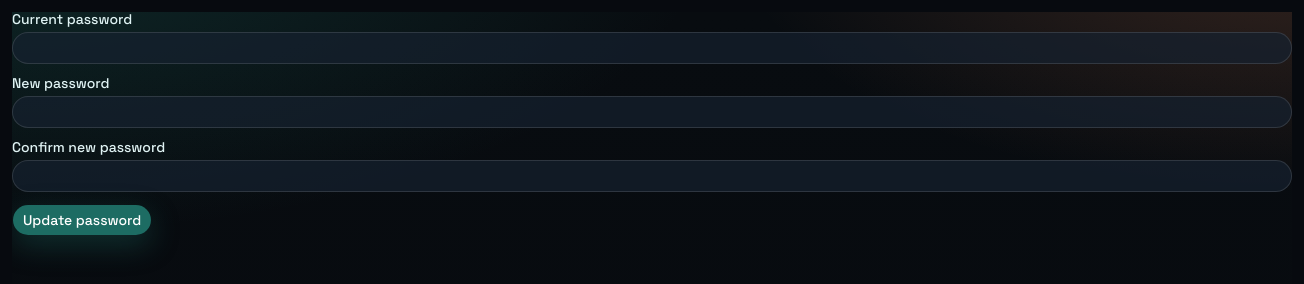
Test: GlotCap PasswordChangeSection › shows error when server request fails
In the password field labelled "Current password": (652, 48) [12,32,1292,64], type "old-pass"
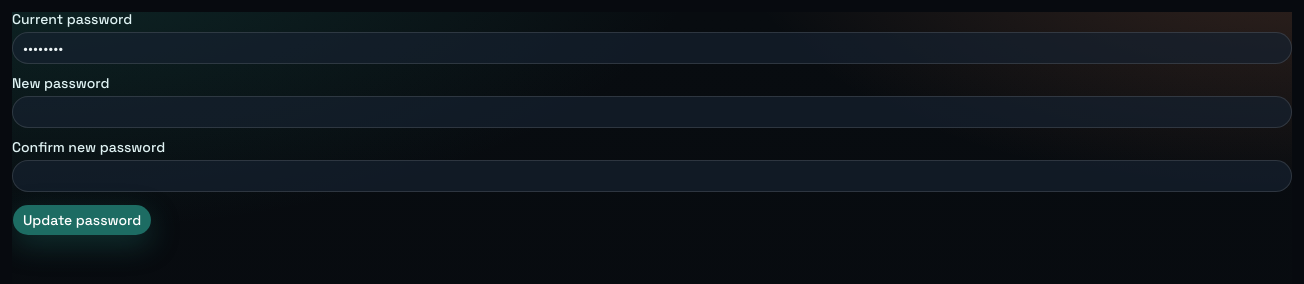
In the password field labelled "New password": (652, 112) [12,96,1292,128], type "new-pass-123"
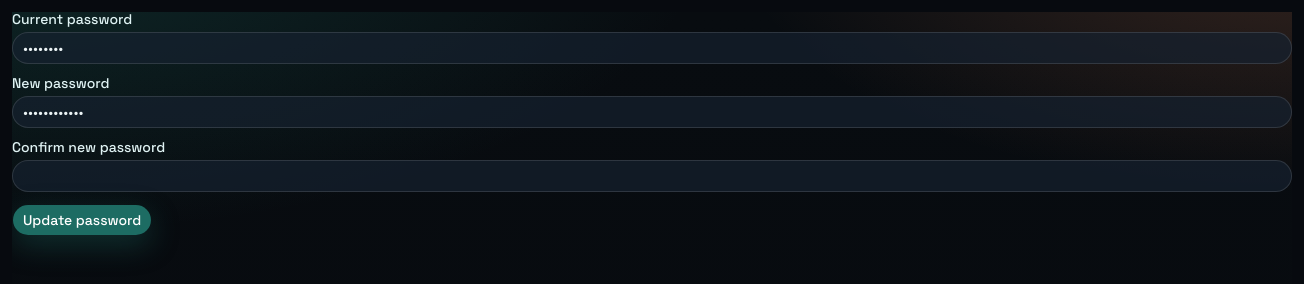
In the password field labelled "Confirm new password": (652, 176) [12,160,1292,192], type "new-pass-123"
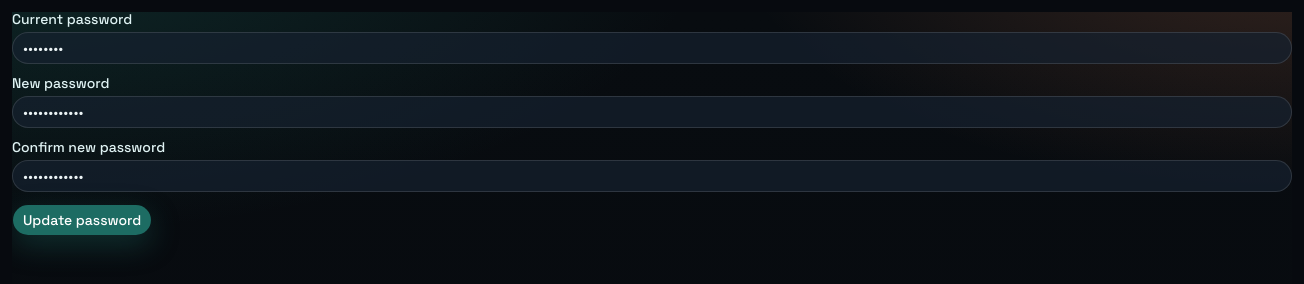
Submit the form from the button "Update password", box [12,204,152,236]
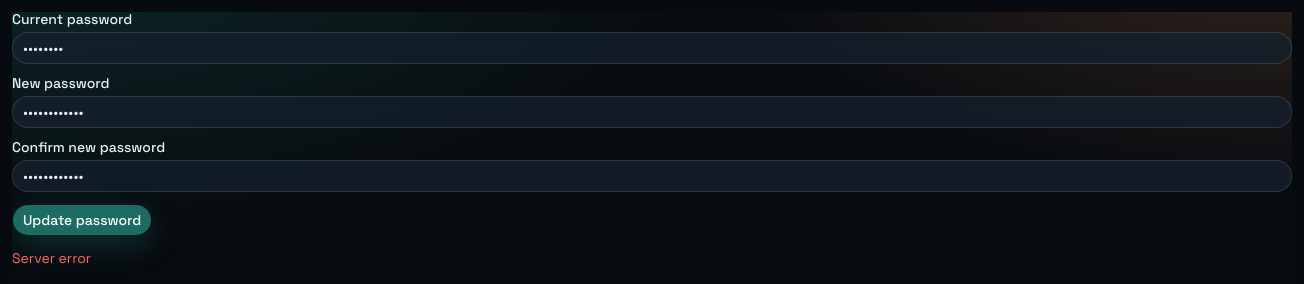
Result: the text "Server error" is shown at [12,249,91,267]
